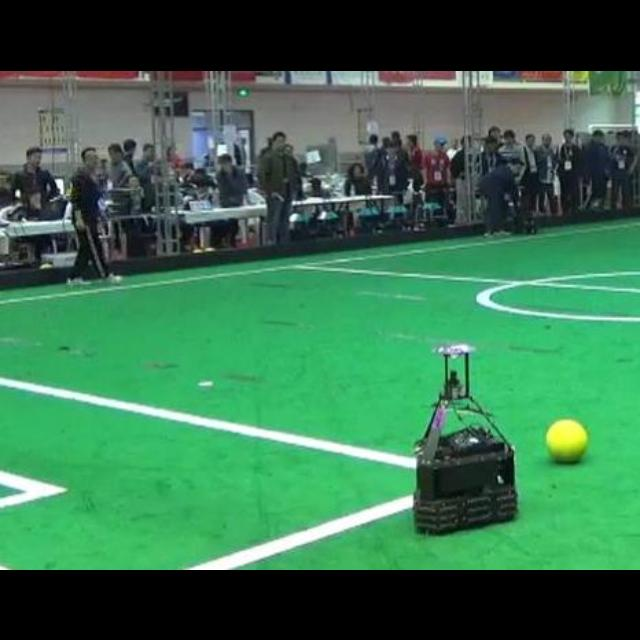ball: (545, 419, 588, 461)
robot: (413, 343, 516, 531)
